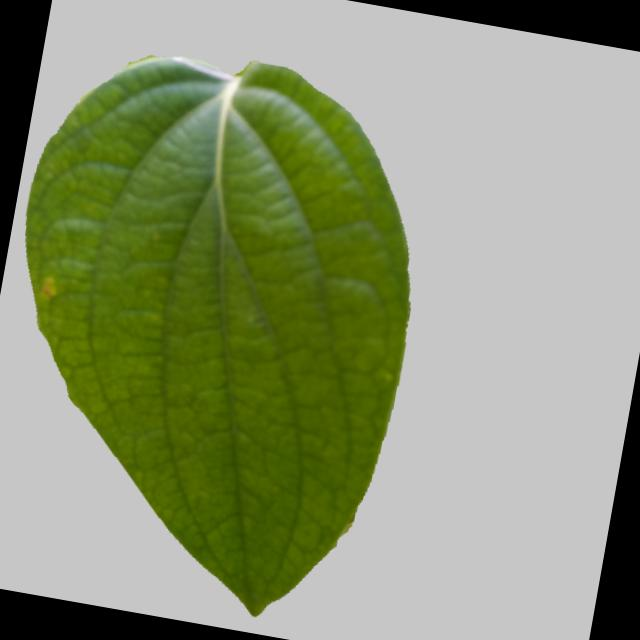healthy: (0, 23, 450, 632)
